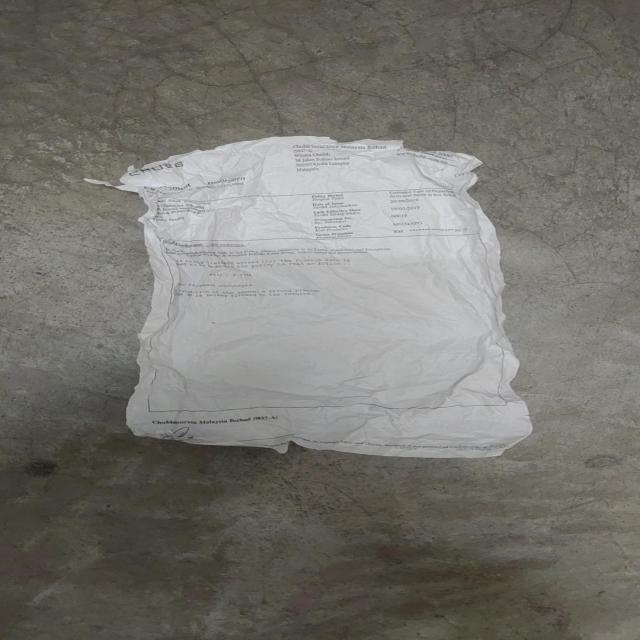paper: (113, 136, 538, 461)
